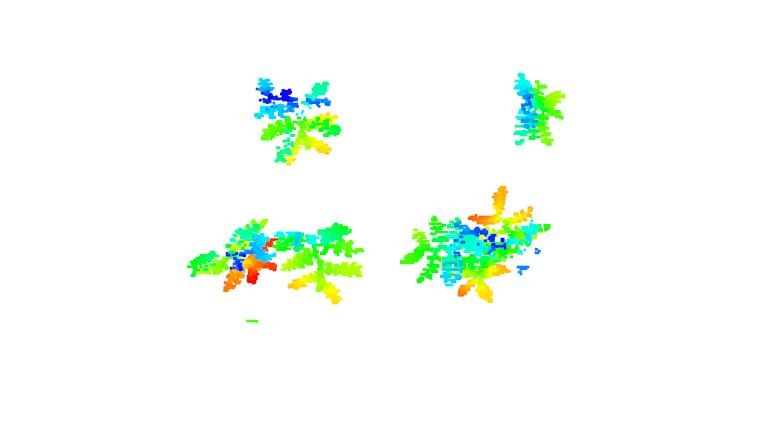chickpea: (401, 212, 511, 305), (250, 71, 344, 169), (465, 184, 556, 275), (273, 218, 367, 305), (187, 218, 272, 286), (509, 65, 571, 150)
